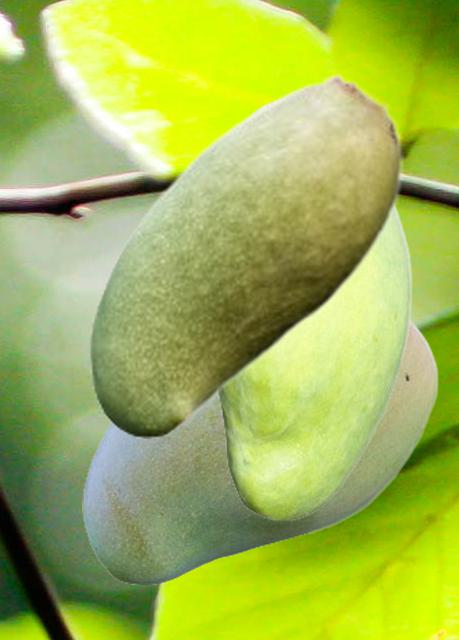green_mango: (88, 73, 402, 437), (82, 317, 438, 583), (216, 96, 411, 520)
